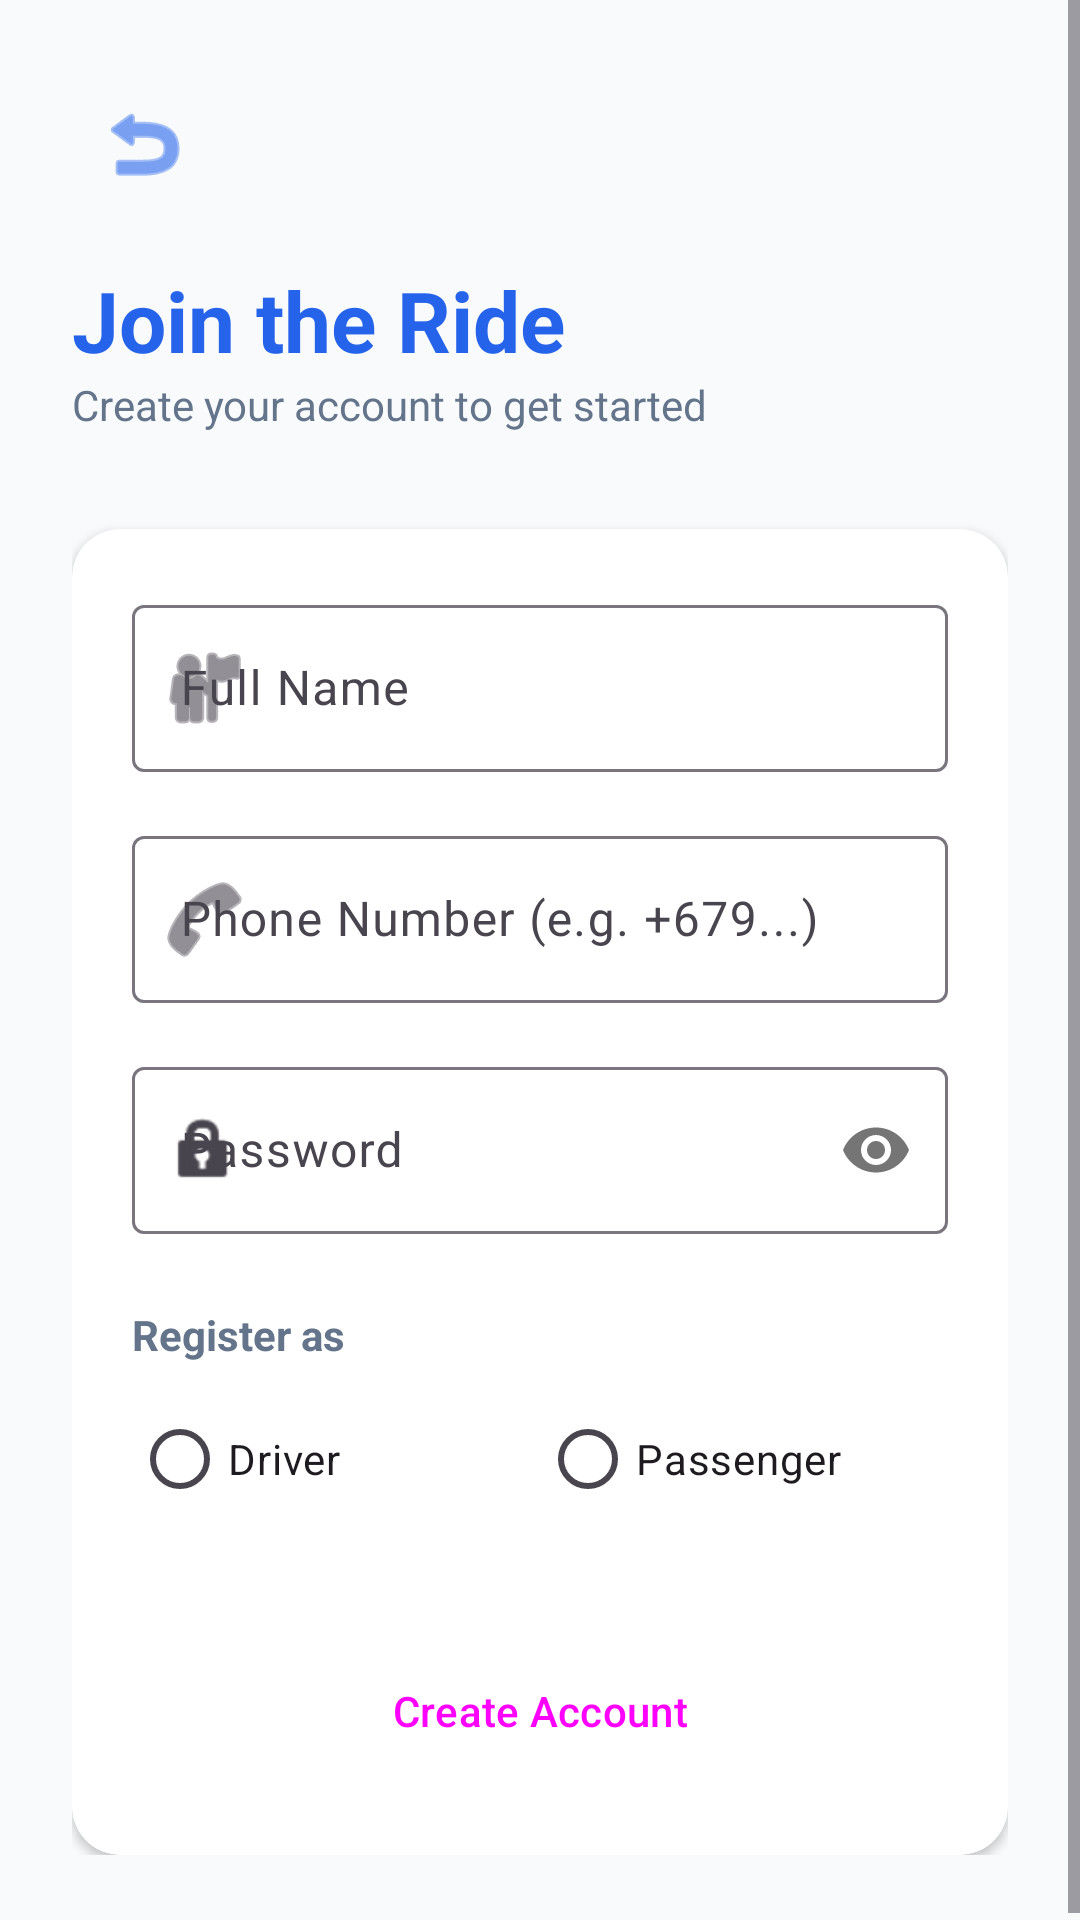

Where to tap for icons on this 1080px×1920px app screen, as point (x, y):
Go Back: point (145, 144)
